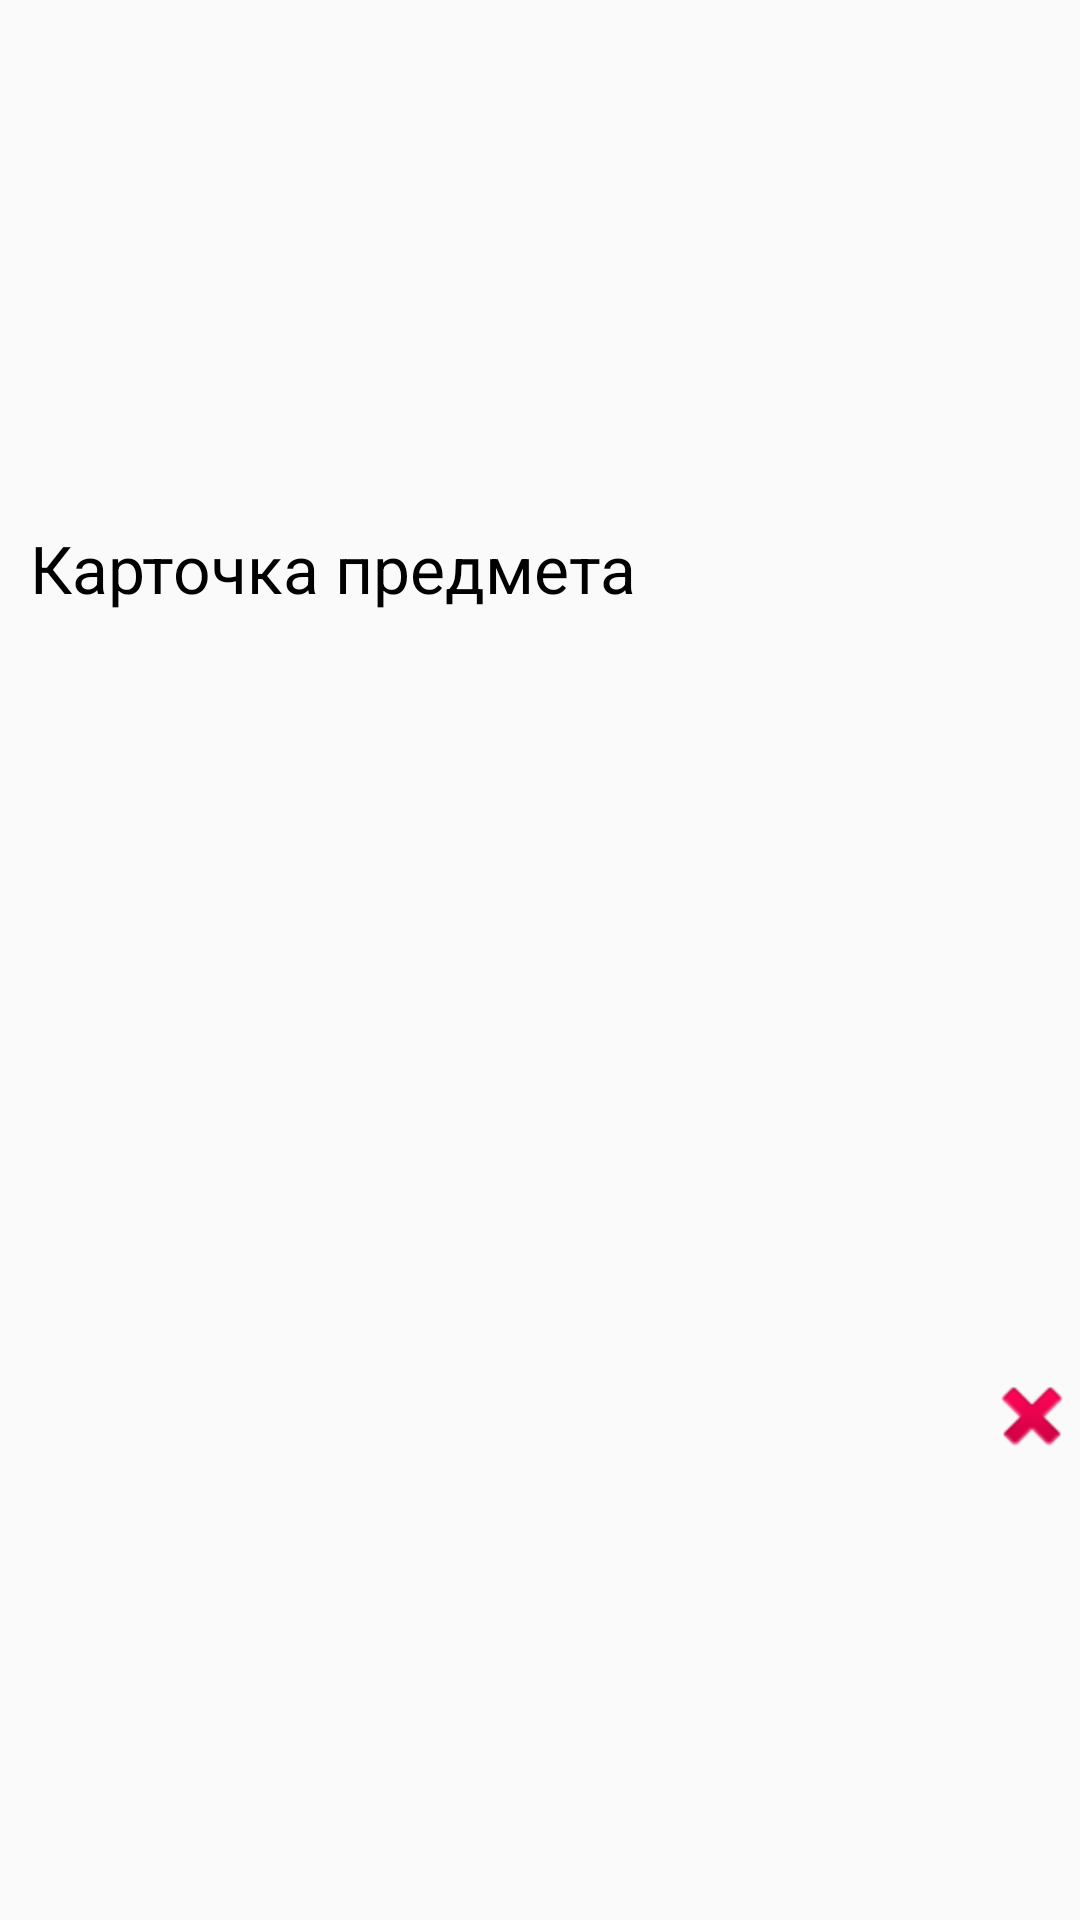

Where icons sit on this 1080px×1920px app screen, as Rect(x1, y1, x2, y2):
delete: Rect(1001, 1387, 1063, 1446)
